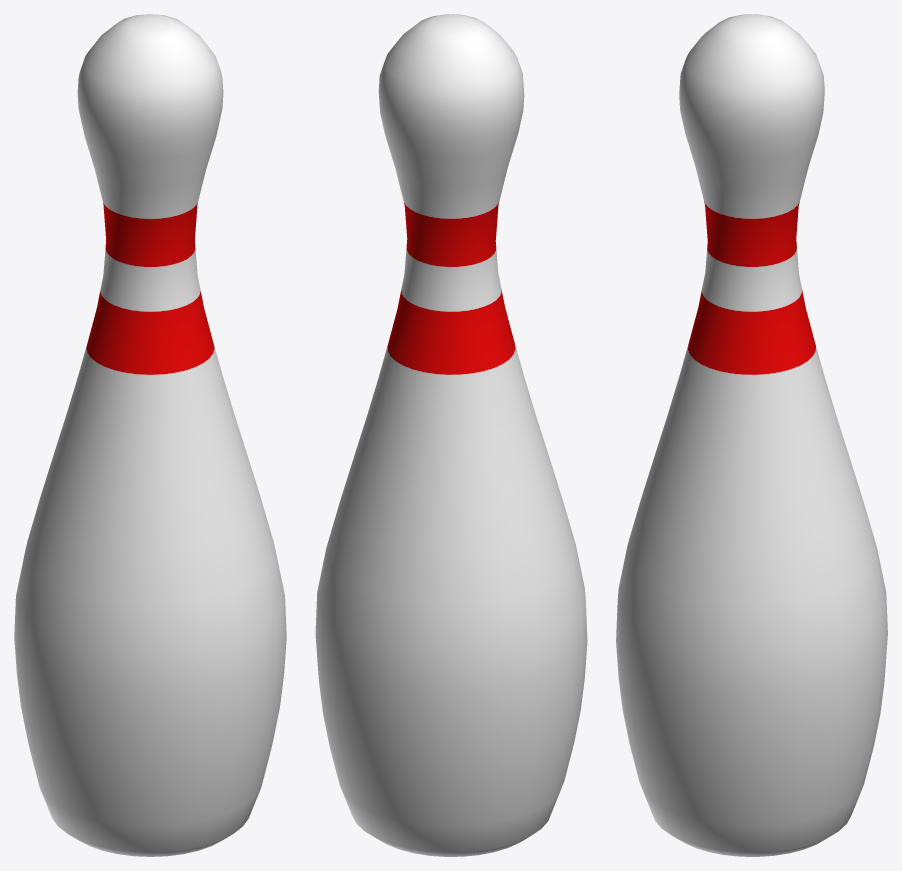
File: pino.fbx
3 renders of one model, left to right at view 1: azimuth 30°, elevation 25°; view 2: azimuth 150°, elevation 25°; view 3: azimuth 270°, elevation 25°, orthographic.
Parts seen in each view (by area): view 1: pino:Bowling_Pin:Bowling_Pin_LowRez; view 2: pino:Bowling_Pin:Bowling_Pin_LowRez; view 3: pino:Bowling_Pin:Bowling_Pin_LowRez.
Boxes of the visible parts, x1=… form: pino:Bowling_Pin:Bowling_Pin_LowRez: x1=14, y1=14, x2=286, y2=856; pino:Bowling_Pin:Bowling_Pin_LowRez: x1=315, y1=14, x2=587, y2=856; pino:Bowling_Pin:Bowling_Pin_LowRez: x1=616, y1=14, x2=887, y2=856.
Size of the model in its own units: 0.6019 by 1.95 by 0.6019.
